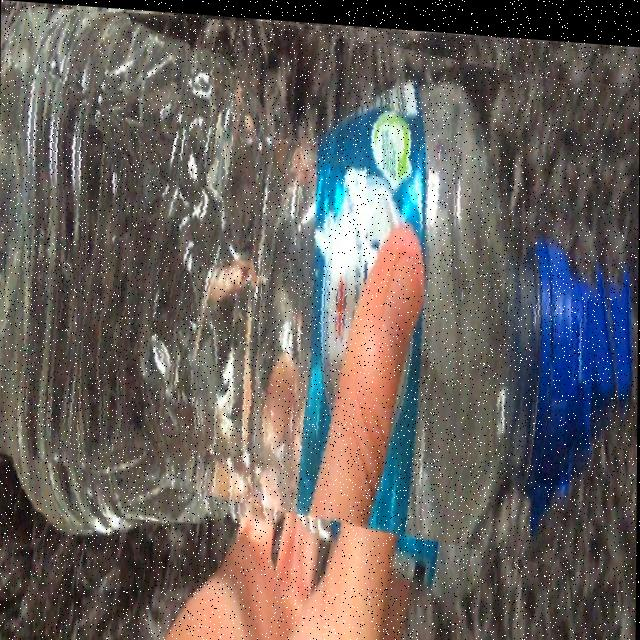litter: (0, 0, 636, 546)
